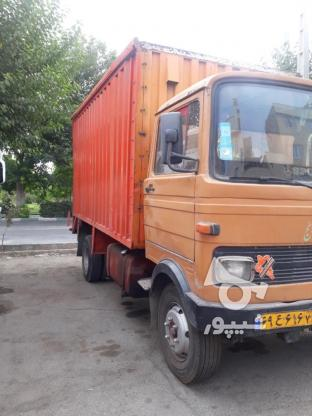car: (255, 309, 311, 328)
